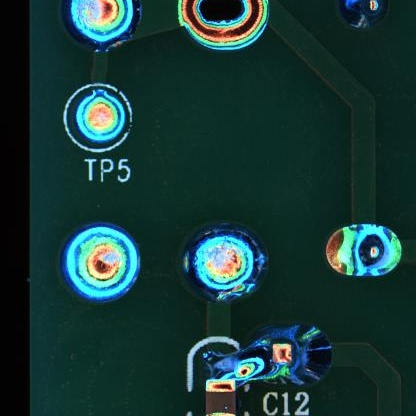spot: (181, 222, 270, 300), (222, 323, 334, 384), (66, 225, 139, 298), (327, 224, 403, 279), (71, 88, 131, 143), (72, 1, 134, 43)
